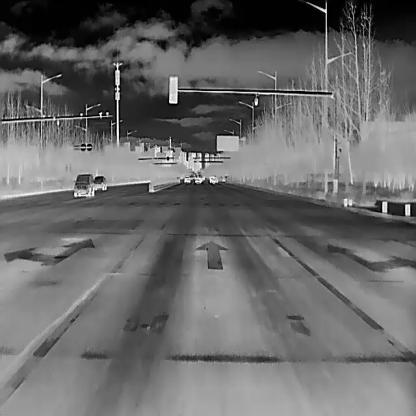car: (72, 173, 94, 197), (94, 175, 106, 189), (193, 171, 202, 183), (209, 174, 217, 182), (183, 175, 189, 182)
